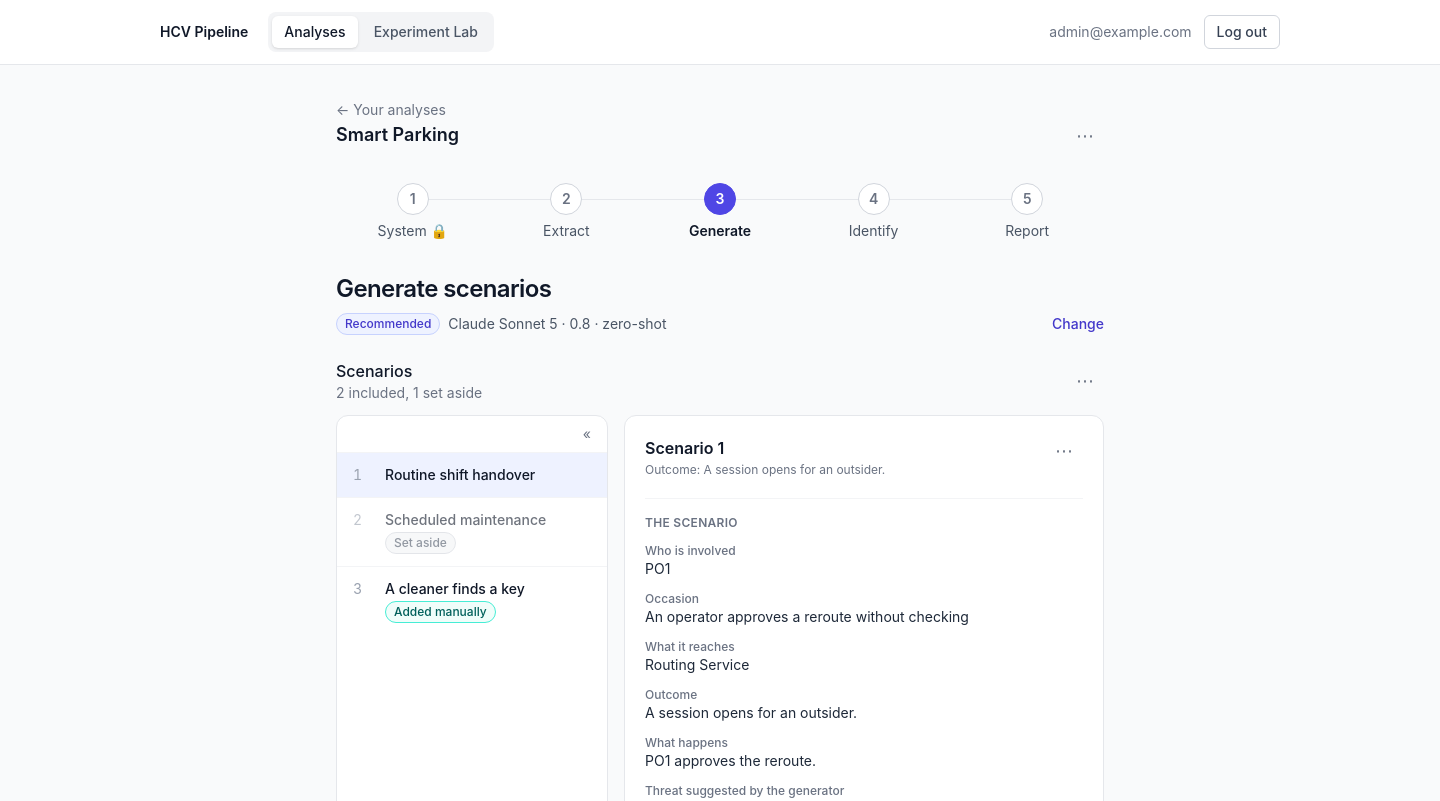
Wide screens: list and detail › heads the chosen scenario with its number, not its cut-off title
The width and height of the screenshot is (1440, 801).
Click the button "3 A cleaner finds a key Added manually". click: (473, 601)
box: [337, 567, 609, 635]
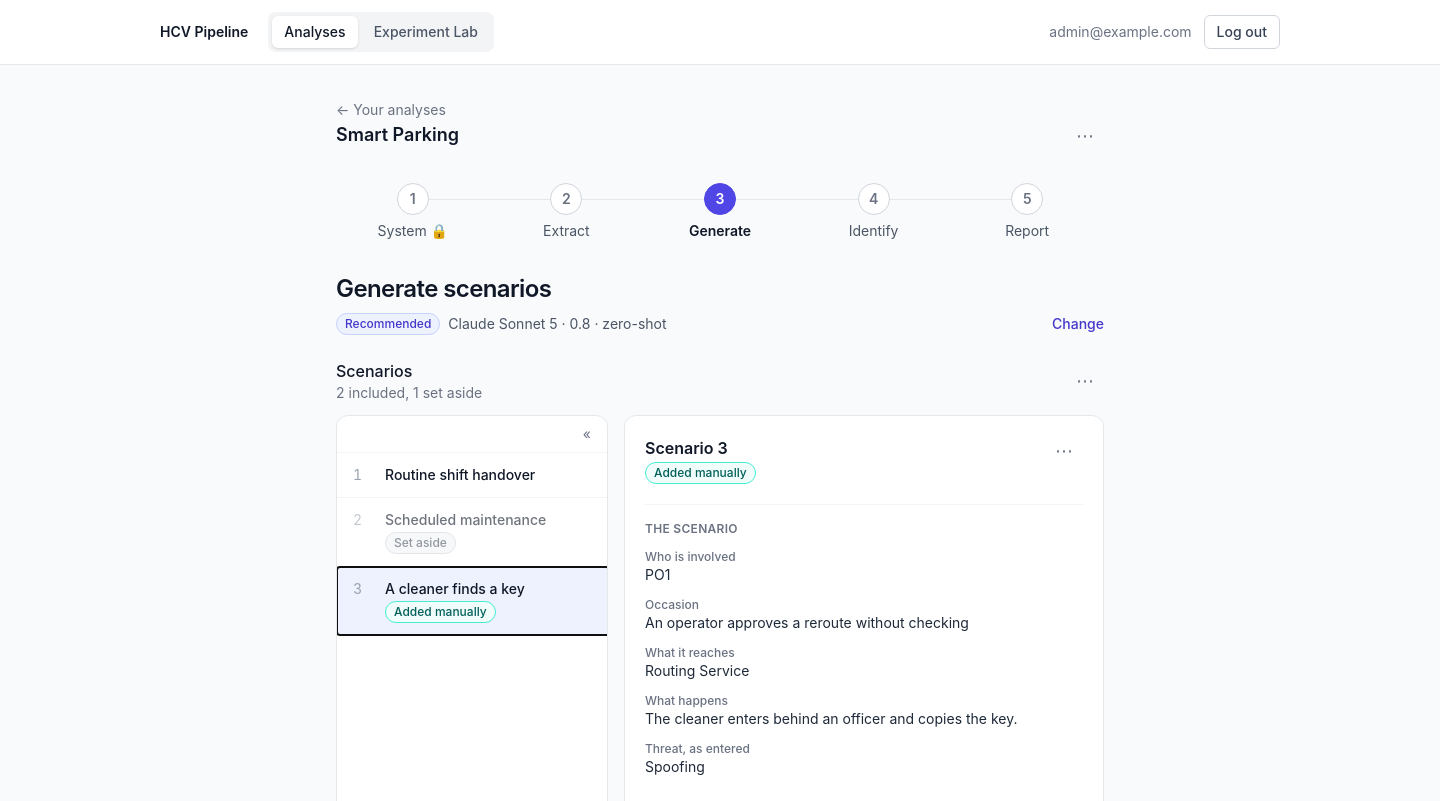
Result: the heading "Scenario 3" is shown at [645, 438, 728, 458]
